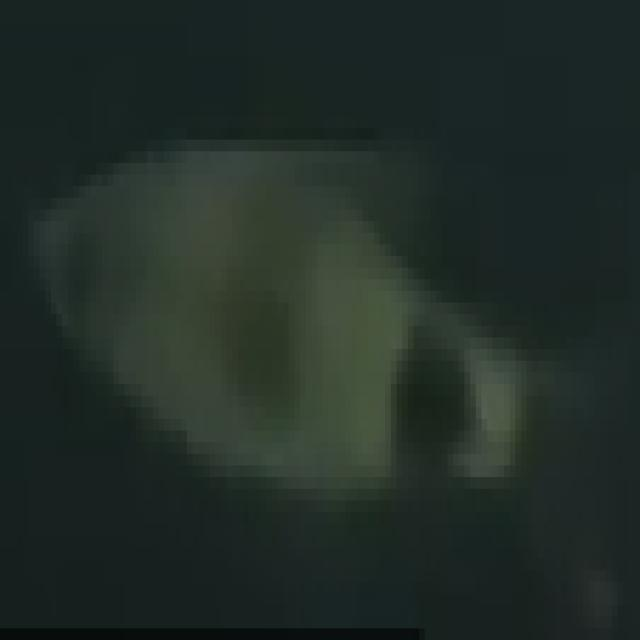Black-Spotted-Barb: (14, 85, 614, 543)
